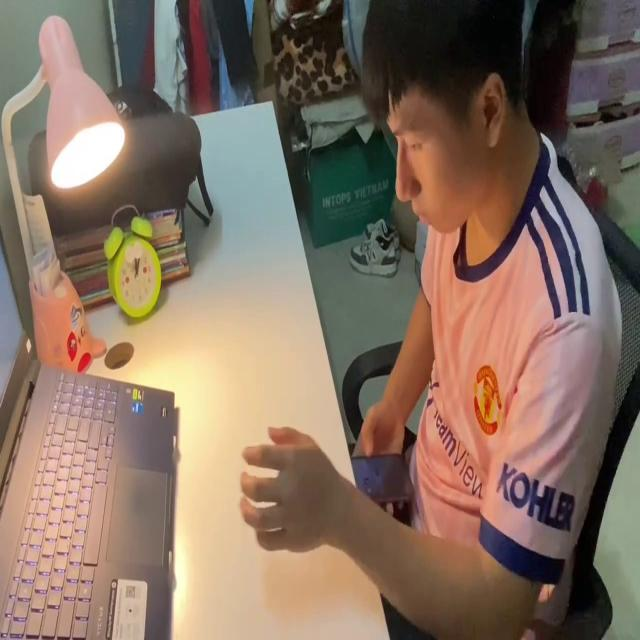laptop: (0, 224, 176, 640)
phone: (349, 446, 417, 509)
student: (235, 0, 621, 640)
